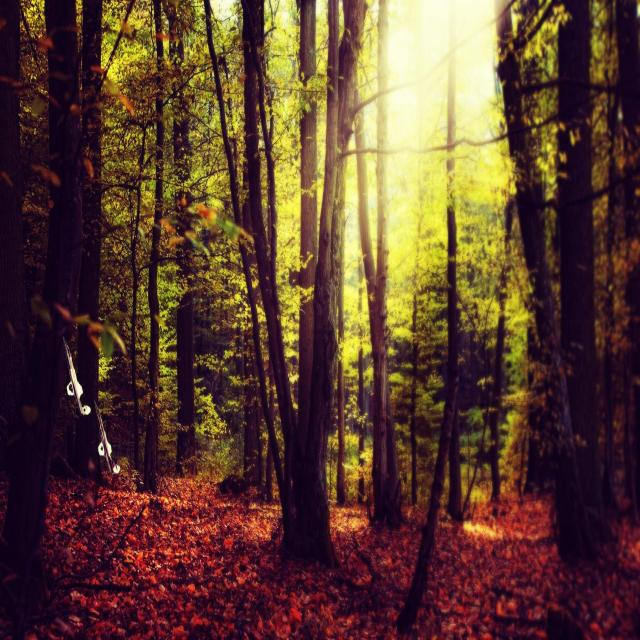airplane: (61, 337, 90, 416), (94, 400, 122, 474)
